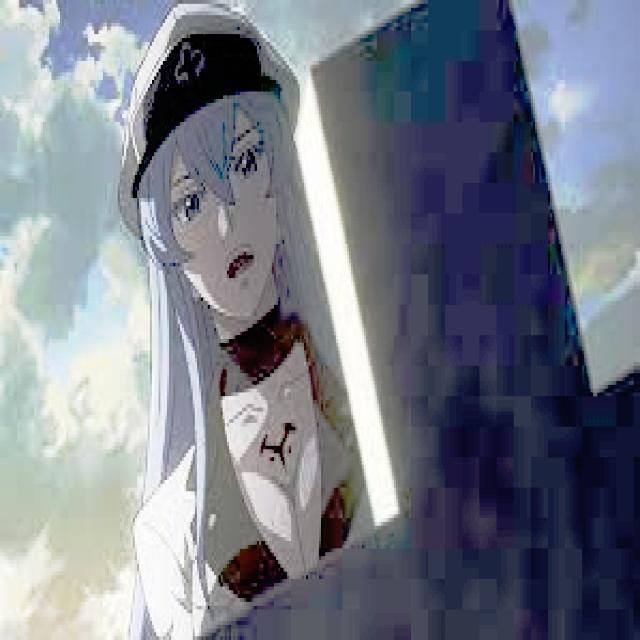TOPI: (113, 0, 304, 236)
